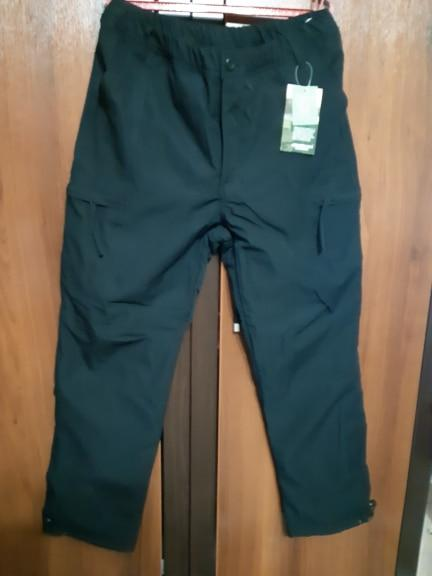pants: (39, 6, 378, 567)
